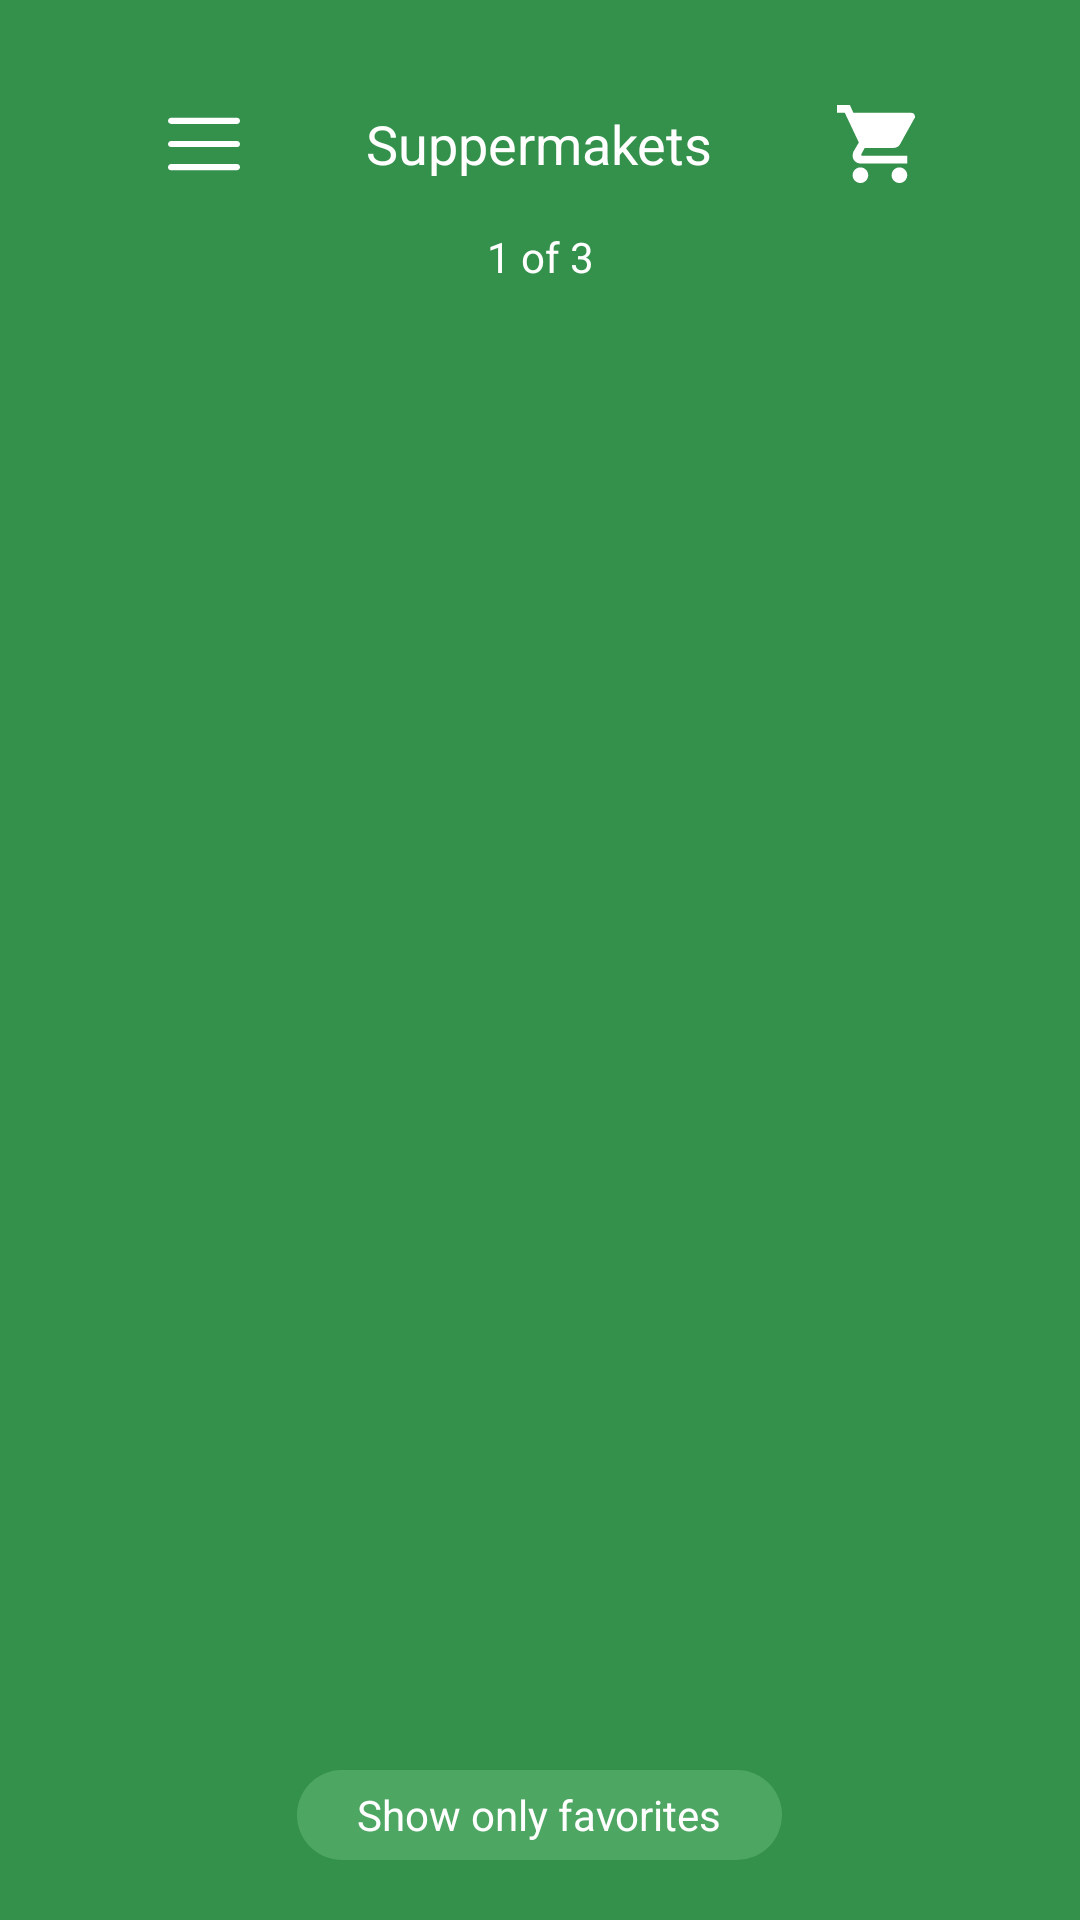

Icons on this 1080×1920 Android screen, each with its box as detection(x1, y1, x2, y2):
cart: detection(837, 105, 915, 183)
menu: detection(168, 117, 240, 171)
